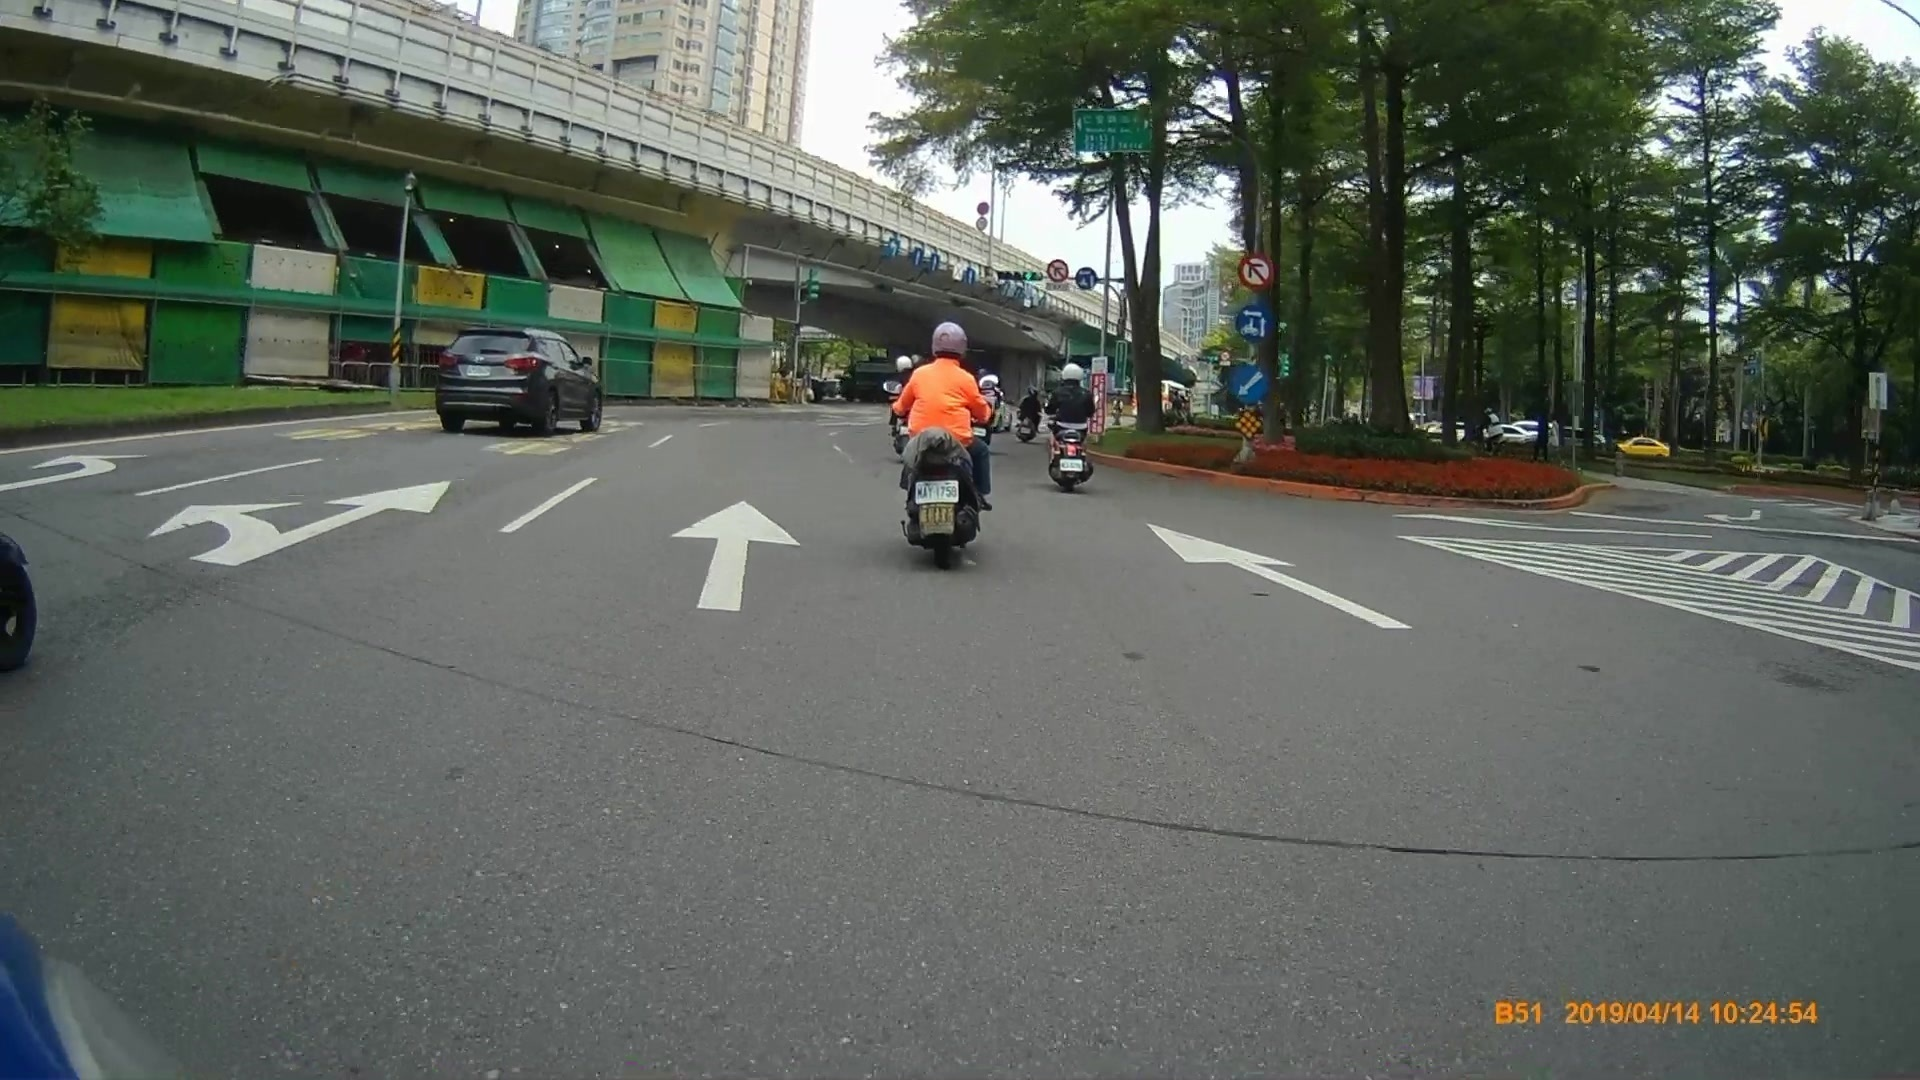License_plate: (912, 480, 960, 505), (464, 364, 496, 380), (1058, 456, 1084, 475)
